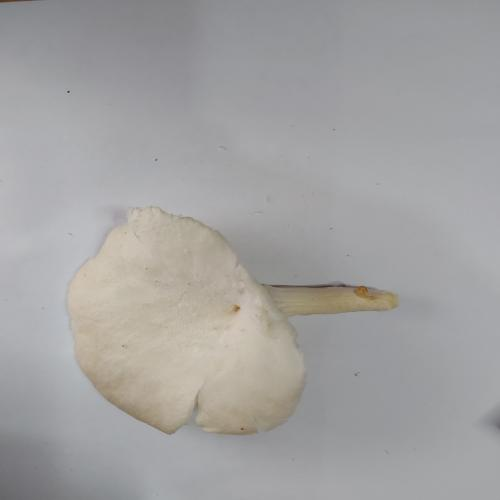Oyster Mushroom: (65, 204, 399, 436)
